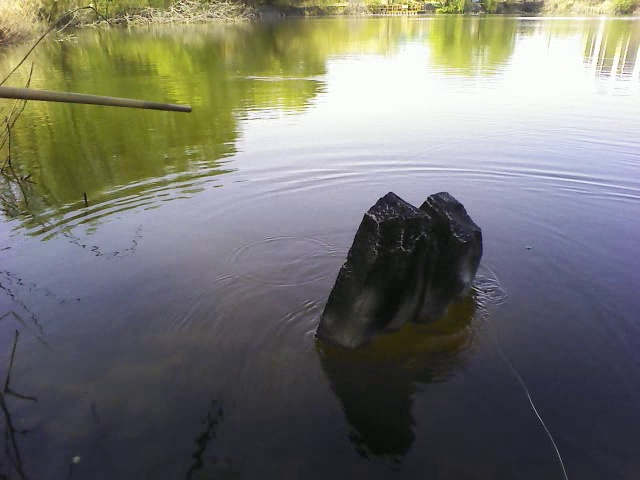rock: (318, 189, 488, 338)
